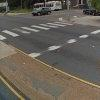Crosswalk: (6, 21, 86, 42)
